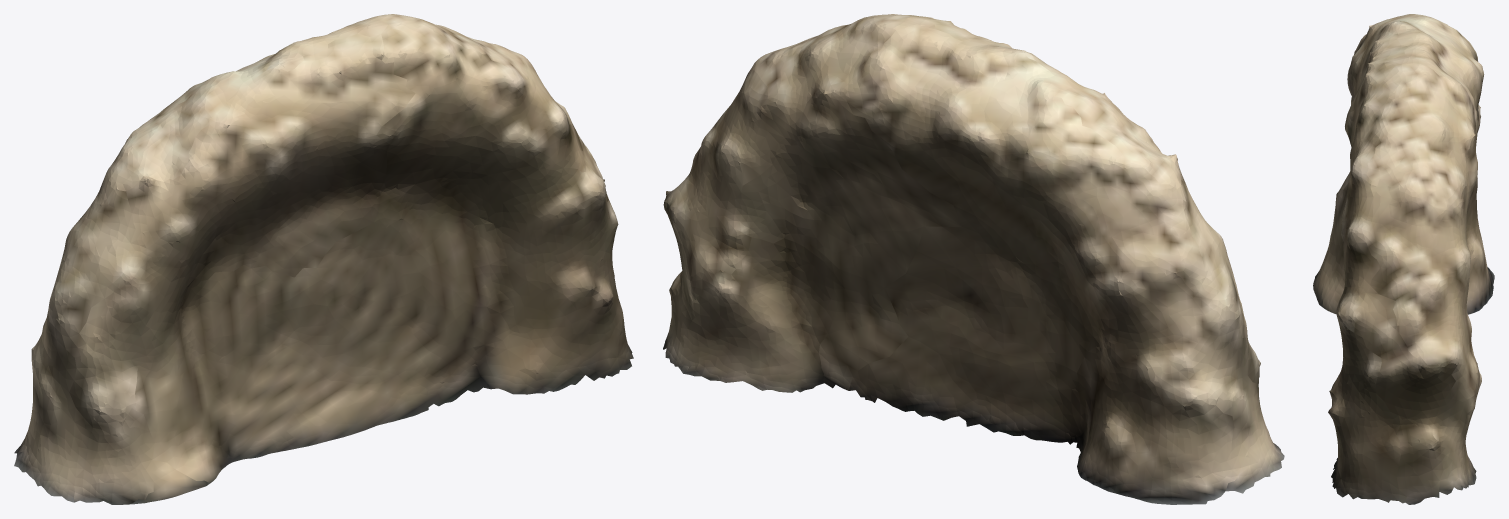
File: Portal.glb
3 renders of one model, left to right at view 1: azimuth 30°, elevation 25°; view 2: azimuth 150°, elevation 25°; view 3: azimuth 270°, elevation 25°, orthographic. The views are drawn at different scales.
Visible parts, largest first — view 1: mesh.012; view 2: mesh.012; view 3: mesh.012.
Boxes of the visible parts, x1,y1,x2,y2 form: mesh.012: (14,14,633,504); mesh.012: (663,14,1284,504); mesh.012: (1313,14,1494,504).
Bounding box in the file's own units: 0.404 × 0.2466 × 0.1186.
1 material, 1 textured.
